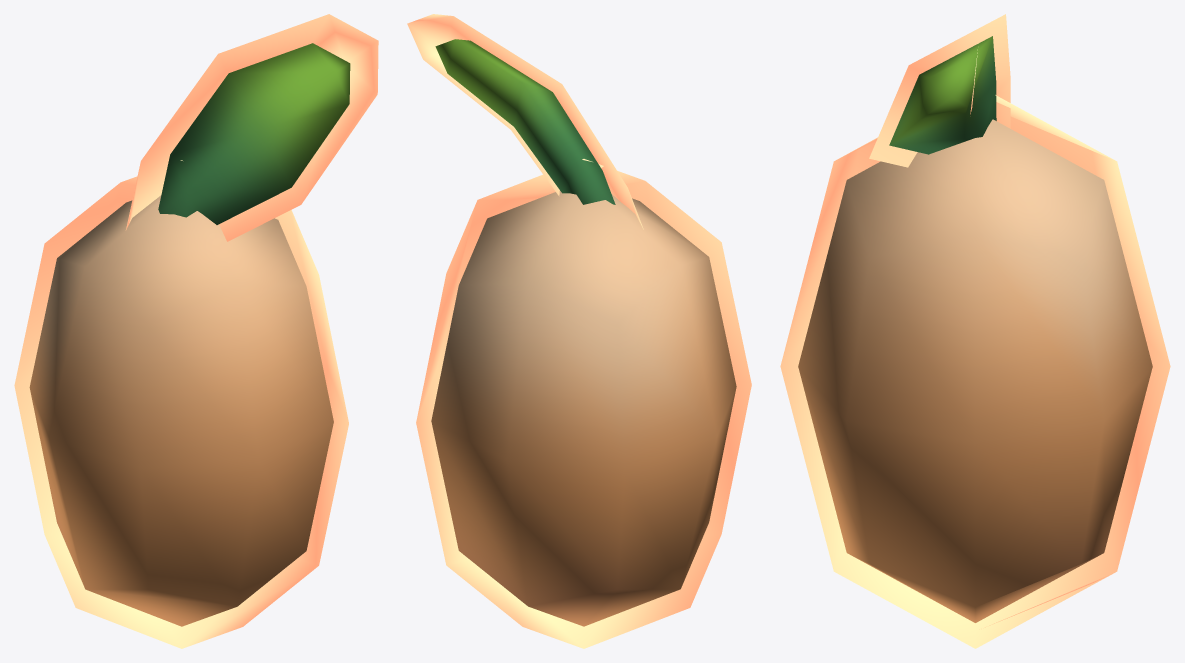
Rendered from uncommonSeed.glb.
3 views of the same model, side by side, from view 1: azimuth 30°, elevation 25°; view 2: azimuth 150°, elevation 25°; view 3: azimuth 270°, elevation 25° (orthographic). The views are drawn at different scales.
Parts seen in each view (by area): view 1: UncommonSeed; view 2: UncommonSeed; view 3: UncommonSeed.
Boxes of the visible parts, left/top/right/bottom form: UncommonSeed: left=14, top=14, right=378, bottom=648; UncommonSeed: left=407, top=14, right=751, bottom=648; UncommonSeed: left=780, top=14, right=1170, bottom=648.
Bounding box in the file's own units: 0.549 × 0.9425 × 0.4823.
2 materials, 1 textured.
